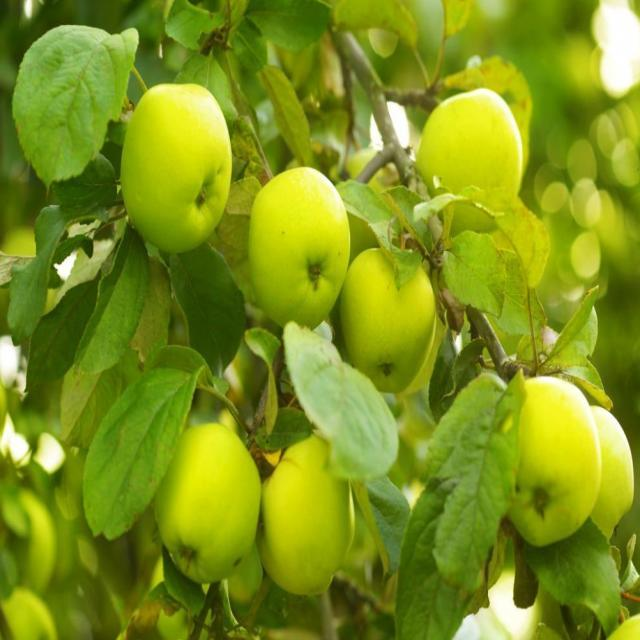Green Apple: (125, 88, 228, 248), (496, 381, 594, 539), (154, 425, 253, 581), (252, 441, 346, 598), (250, 166, 337, 324), (423, 97, 524, 220), (345, 252, 427, 392), (567, 409, 633, 530), (1, 575, 55, 640), (604, 601, 640, 640)
